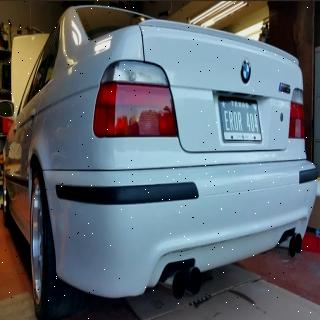license: (219, 97, 264, 143)
